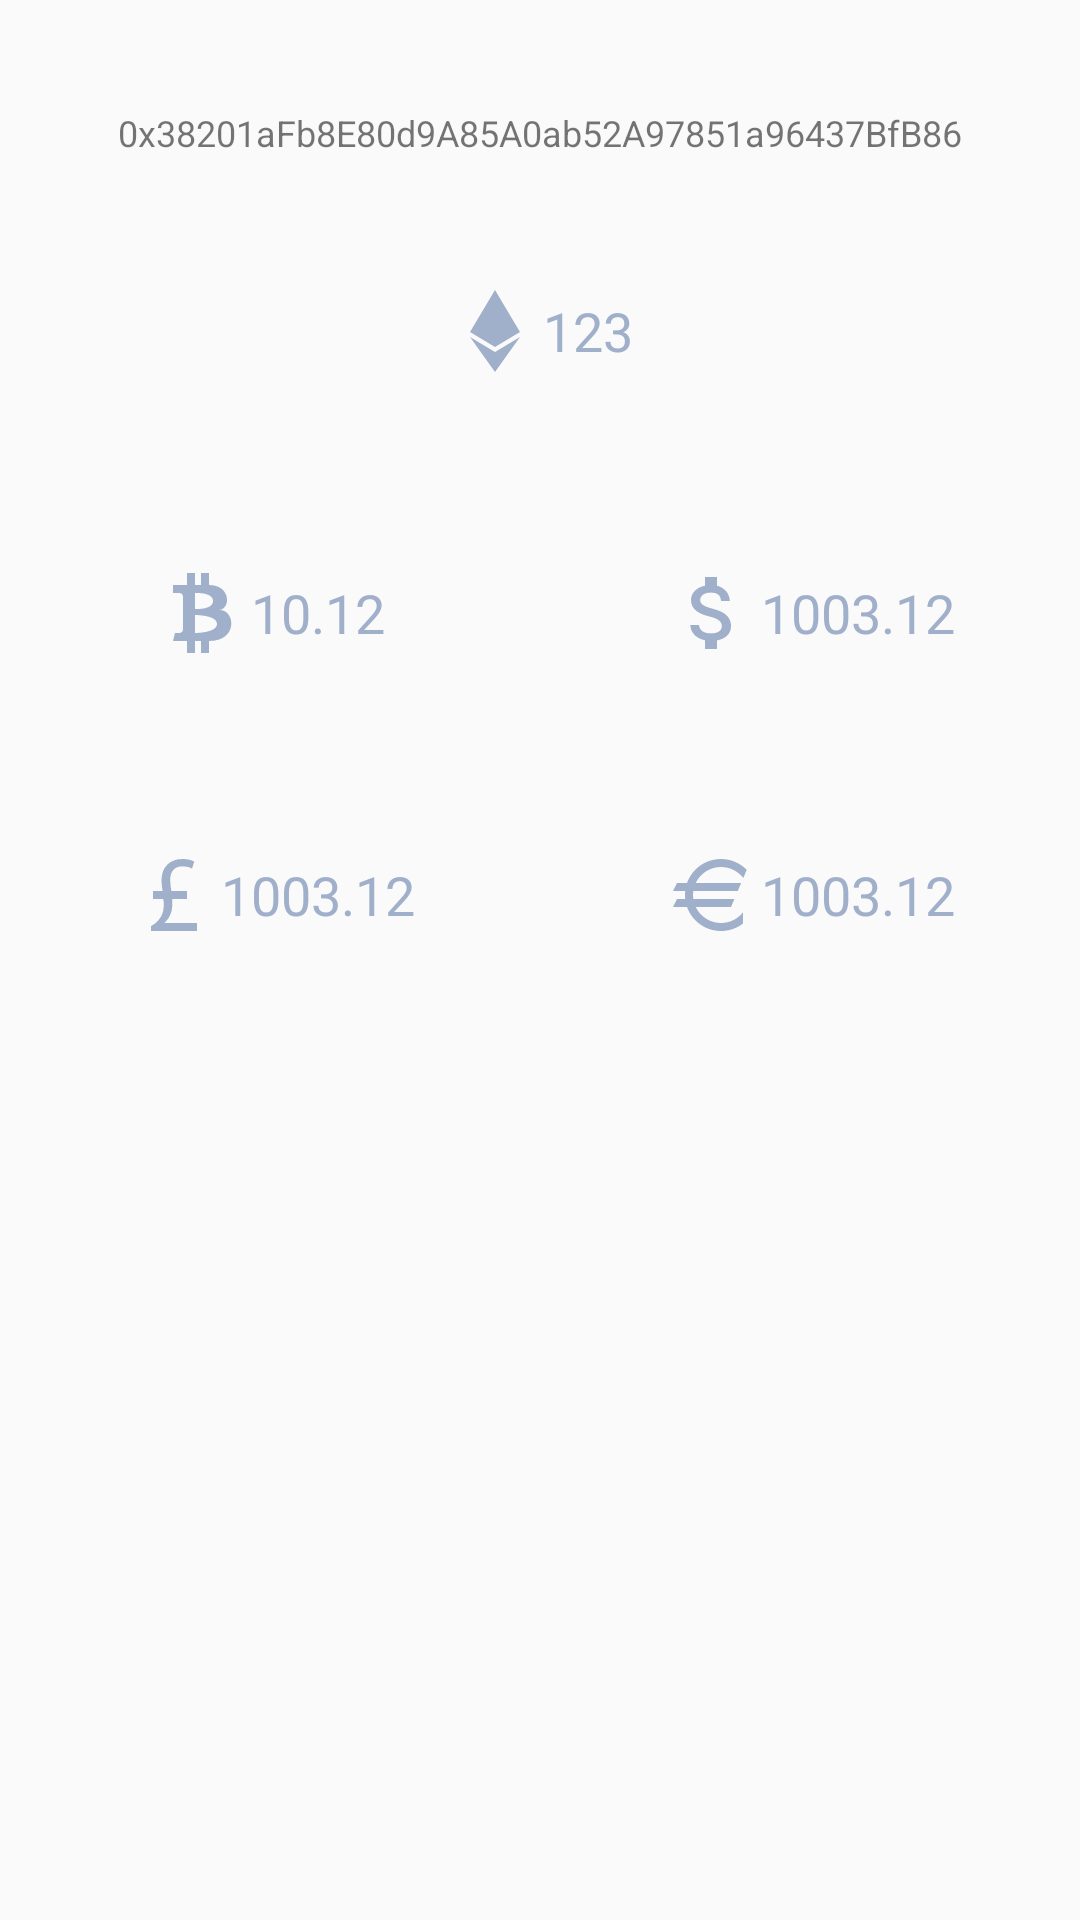

Icons on this 1080 x 1920 Android screen, each with its box as (x1, y1, x2, y2):
dollar: (690, 577, 731, 649)
euro: (673, 859, 747, 931)
